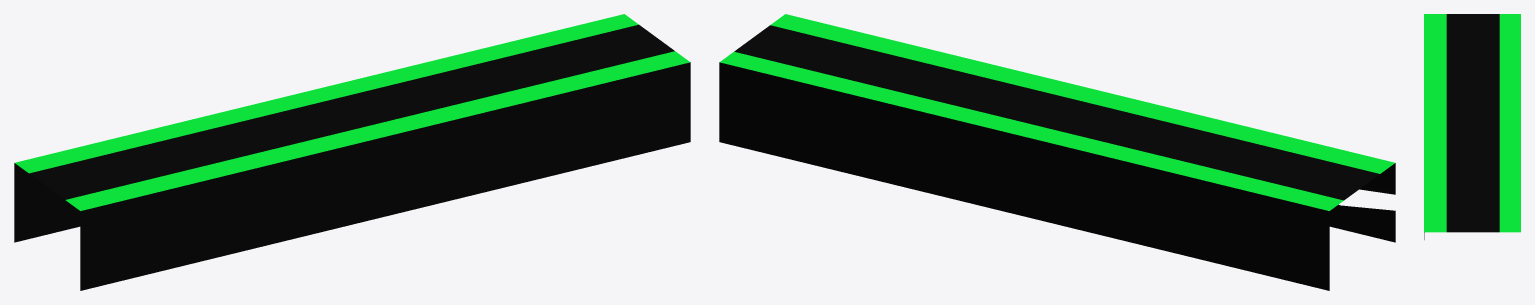
The model's file is Basic.fbx.
3 renders of one model, left to right at view 1: azimuth 30°, elevation 25°; view 2: azimuth 150°, elevation 25°; view 3: azimuth 270°, elevation 25°, orthographic. The views are drawn at different scales.
Parts seen in each view (by area): view 1: Basic_Prefab; view 2: Basic_Prefab; view 3: Basic_Prefab.
Part boxes in pixels (x1,y1,x2,y2): Basic_Prefab: (14, 14, 690, 290); Basic_Prefab: (719, 14, 1395, 290); Basic_Prefab: (1424, 14, 1520, 239).
Bounding box in the file's own units: 80 × 10 × 15.
